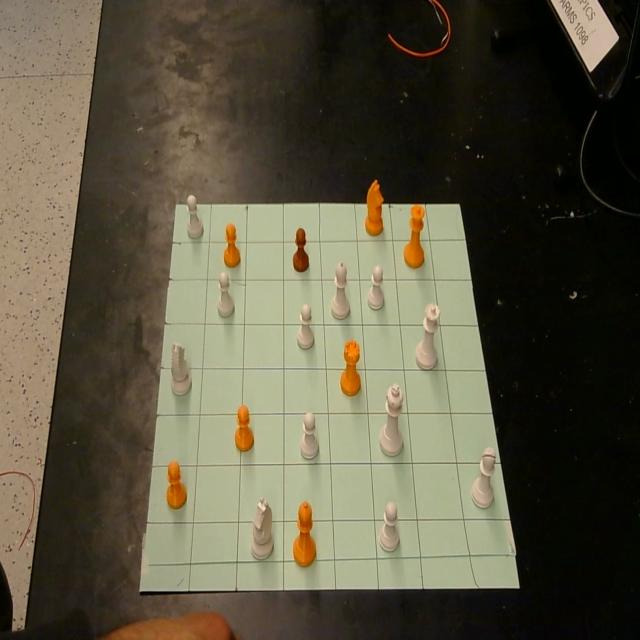orange_bishop: (293, 500, 316, 566)
orange_knight: (365, 179, 384, 236)
orange_pawn: (166, 460, 187, 509), (235, 405, 254, 451), (292, 228, 310, 272), (223, 222, 240, 268)
orange_queen: (404, 203, 425, 268)
orange_rook: (340, 338, 361, 396)
white_bishop: (330, 261, 350, 319)
white_knight: (250, 497, 274, 559), (170, 341, 191, 395)
white_pawn: (470, 447, 496, 508), (378, 501, 399, 552), (300, 411, 319, 460), (186, 195, 204, 240), (297, 303, 314, 349), (217, 271, 234, 317), (367, 265, 384, 310)
white_queen: (379, 382, 405, 456), (415, 302, 440, 370)
